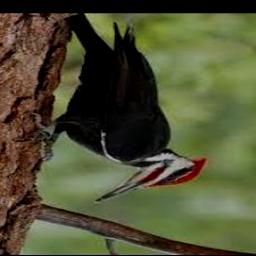Woodpecker: (20, 14, 207, 203)
